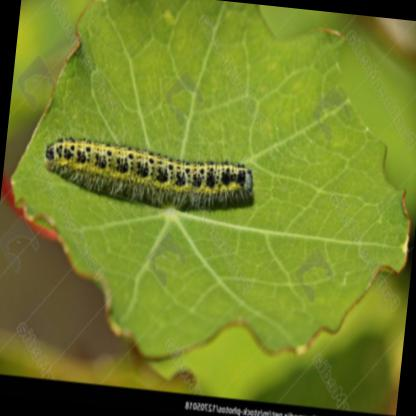pieris: (44, 134, 260, 213)
